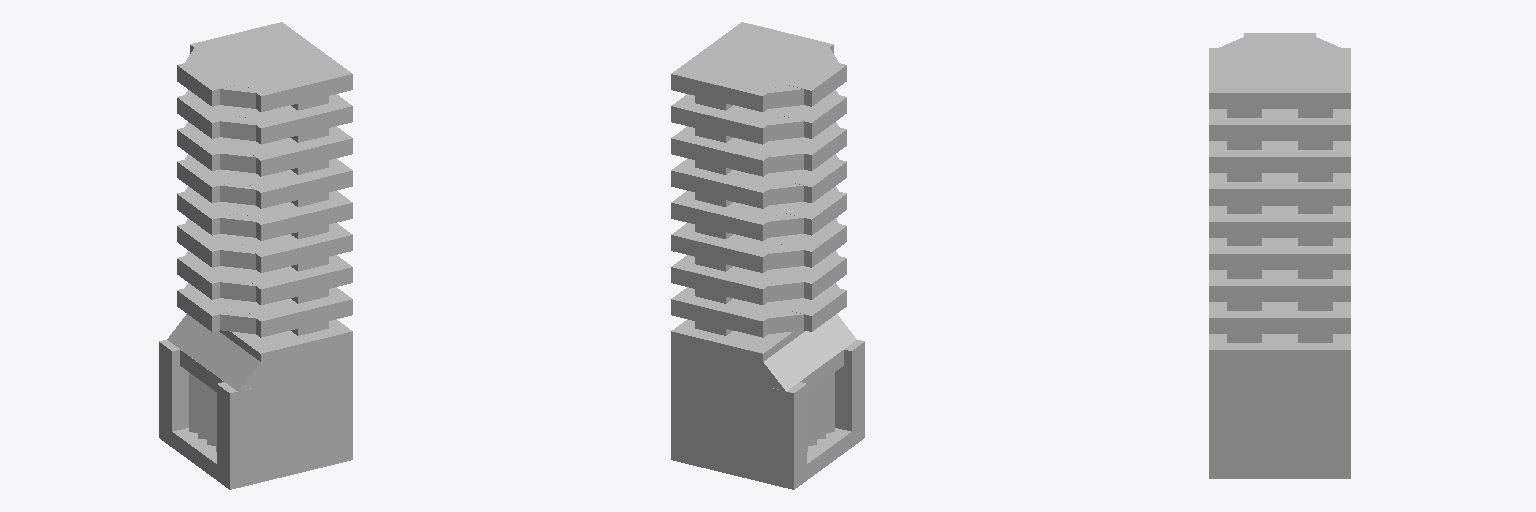
File: heat_radiator.obj
3 views of the same model, side by side, from view 1: azimuth 30°, elevation 25°; view 2: azimuth 150°, elevation 25°; view 3: azimuth 270°, elevation 25° (orthographic).
Visible parts, largest first — view 1: body1, mainPart38, poleS, eave22, mainPart10, mainPart26, mainPart34, mainPart22, mainPart14, mainPart18, mainPart30, poleN (+20 smaller); view 2: body1, mainPart38, poleN, eave22, mainPart10, mainPart26, mainPart34, mainPart22, mainPart14, mainPart18, mainPart30, poleS (+20 smaller); view 3: body1, mainPart38, mainPart26, mainPart18, mainPart22, mainPart10, mainPart14, mainPart30, mainPart34, pipe0LowerW42, pipe0UpperW43, pipe0UpperE44 (+2 smaller).
Boxes of the visible parts, x1,y1,x2,y2 form: body1: [219, 319, 352, 481]; mainPart38: [190, 22, 352, 111]; poleS: [217, 382, 260, 489]; eave22: [167, 314, 260, 390]; mainPart10: [230, 287, 352, 337]; mainPart26: [231, 158, 352, 208]; mainPart34: [231, 94, 352, 144]; mainPart22: [231, 191, 352, 240]; mainPart14: [231, 255, 352, 304]; mainPart18: [231, 223, 352, 272]; mainPart30: [230, 126, 352, 176]; poleN: [159, 340, 188, 446]; body1: [671, 319, 804, 481]; mainPart38: [671, 22, 833, 111]; poleN: [763, 382, 806, 489]; eave22: [763, 314, 856, 390]; mainPart10: [671, 287, 793, 337]; mainPart26: [671, 158, 792, 208]; mainPart34: [671, 94, 792, 144]; mainPart22: [671, 191, 792, 240]; mainPart14: [671, 255, 792, 304]; mainPart18: [671, 223, 792, 272]; mainPart30: [671, 126, 793, 176]; poleS: [835, 340, 864, 446]; body1: [1209, 334, 1350, 478]; mainPart38: [1209, 48, 1350, 108]; mainPart26: [1209, 173, 1350, 205]; mainPart18: [1209, 238, 1350, 269]; mainPart22: [1209, 206, 1350, 237]; mainPart10: [1209, 302, 1350, 333]; mainPart14: [1209, 270, 1350, 301]; mainPart30: [1209, 141, 1350, 172]; mainPart34: [1209, 109, 1350, 140]; pipe0LowerW42: [1298, 238, 1332, 342]; pipe0UpperW43: [1298, 109, 1332, 213]; pipe0UpperE44: [1227, 109, 1261, 213].
Bounding box in the file's own units: 1 × 3 × 1.